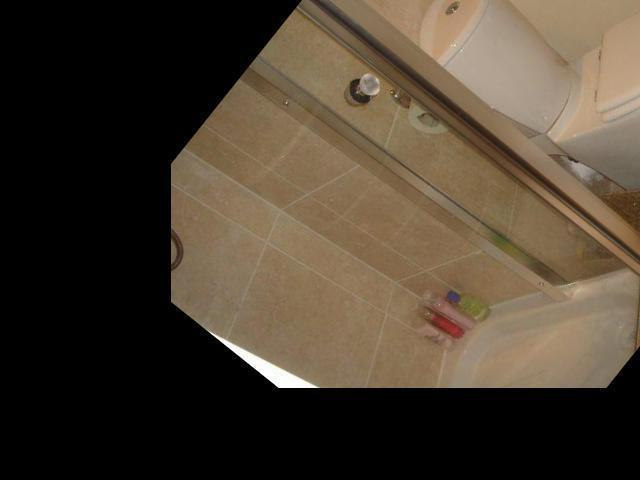Ducha: (111, 0, 640, 480)
Otro Obstaculo: (580, 125, 640, 304)
Sanitario: (379, 0, 640, 285)
